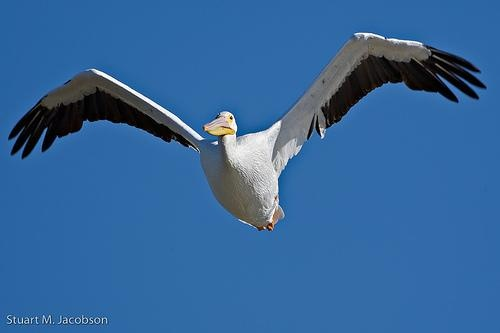bird: (10, 30, 480, 234)
